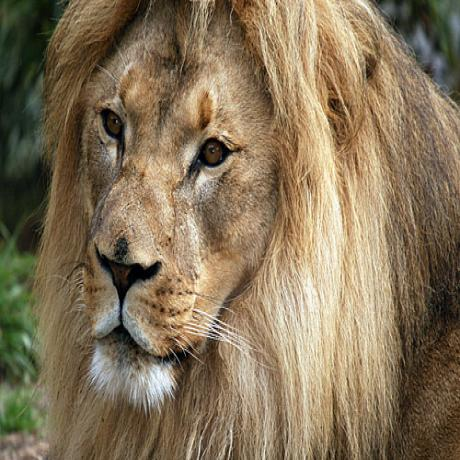Lion: (34, 0, 460, 460)
